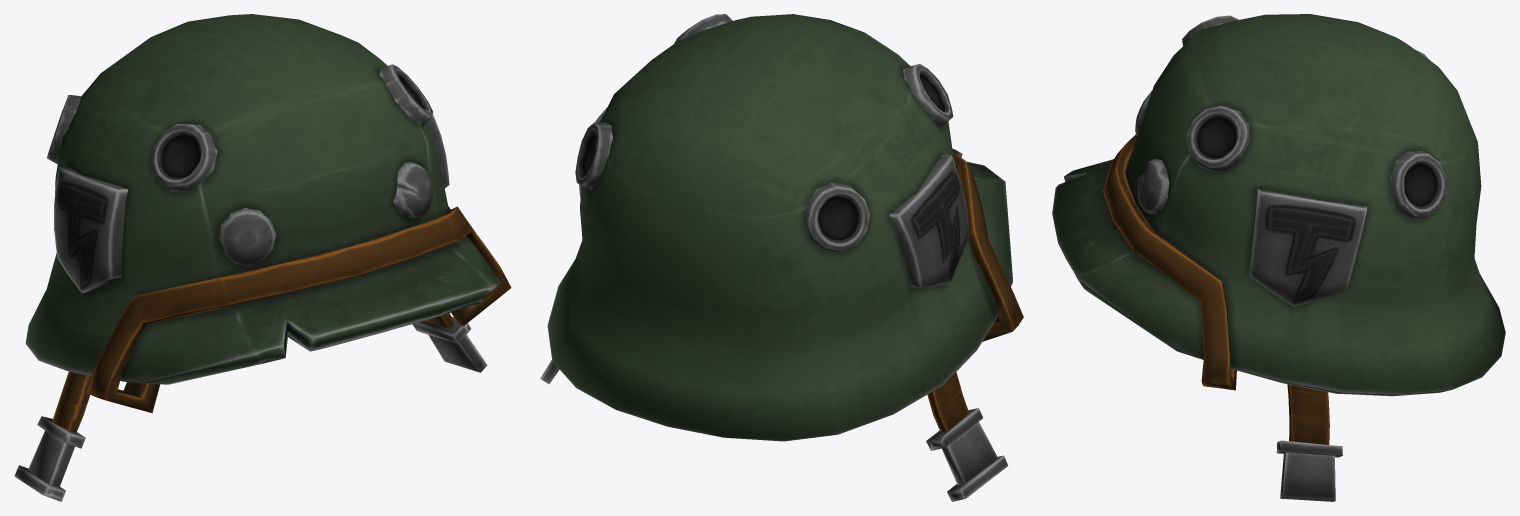
The model's file is helmet.glb.
3 renders of one model, left to right at view 1: azimuth 30°, elevation 25°; view 2: azimuth 150°, elevation 25°; view 3: azimuth 270°, elevation 25°, orthographic. The views are drawn at different scales.
Parts seen in each view (by area): view 1: military_a_head.4; view 2: military_a_head.4; view 3: military_a_head.4.
Boxes of the visible parts, x1,y1,x2,y2 form: military_a_head.4: (14, 14, 511, 501); military_a_head.4: (540, 14, 1023, 501); military_a_head.4: (1052, 14, 1505, 501).
Size of the model in its own units: 0.6356 by 0.5572 by 0.5821.
1 material, 1 textured.
